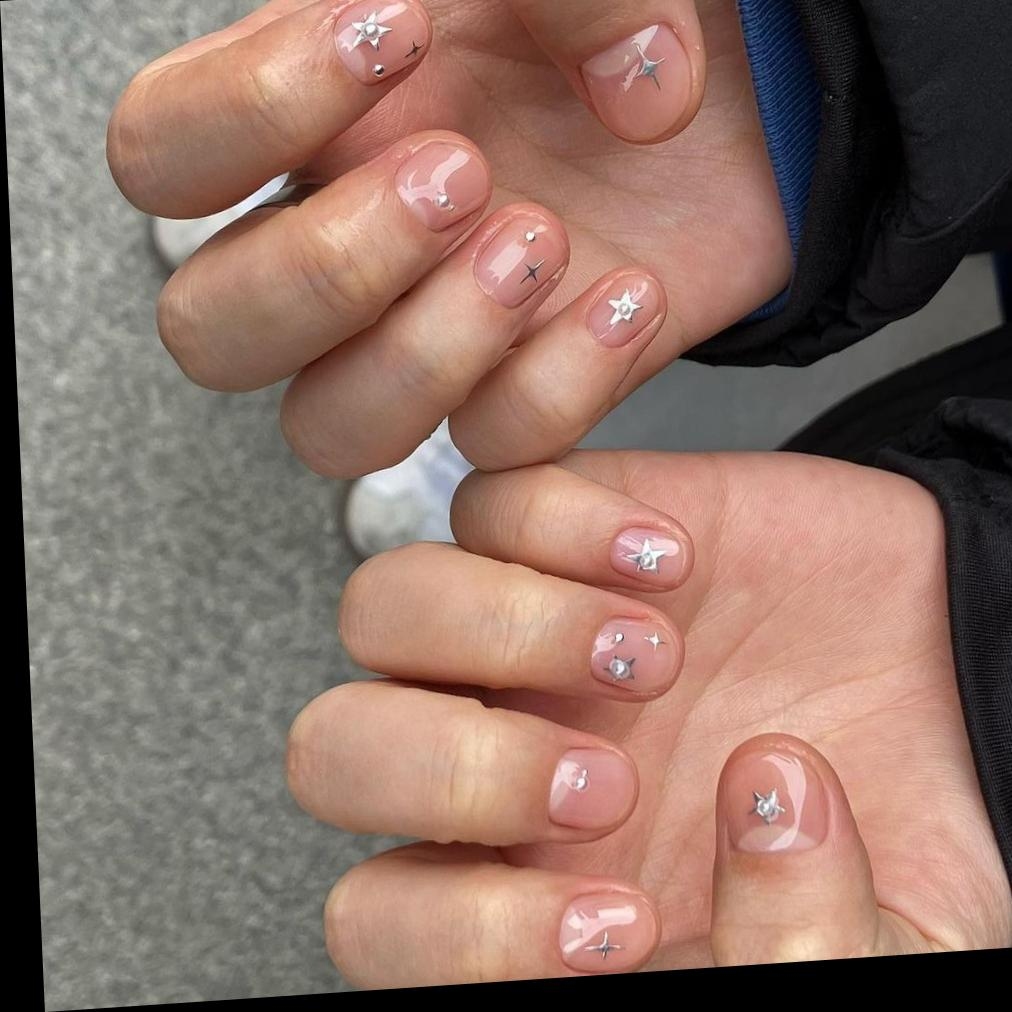nail: (578, 19, 701, 150), (716, 731, 836, 861), (470, 199, 575, 312), (392, 131, 497, 236), (556, 886, 662, 978), (545, 741, 643, 837), (331, 0, 436, 89), (588, 609, 687, 702), (584, 269, 668, 351), (608, 521, 691, 588)
